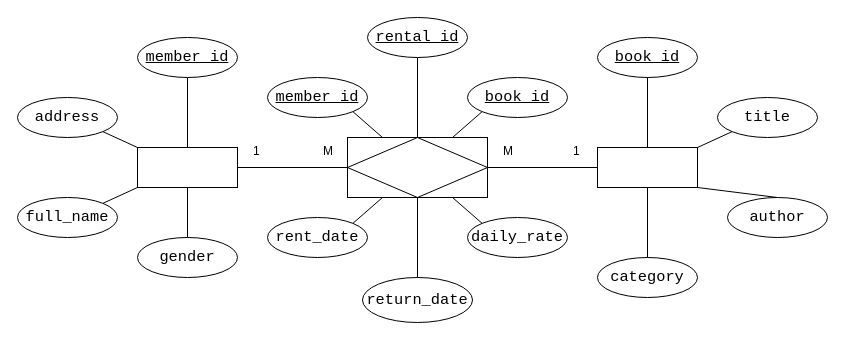
This 845x340 diagram has some shape labels left out. Each missing label, with the box of its shape:
books: (596, 146, 698, 188)
member: (136, 146, 238, 188)
rentals: (346, 136, 488, 198)
